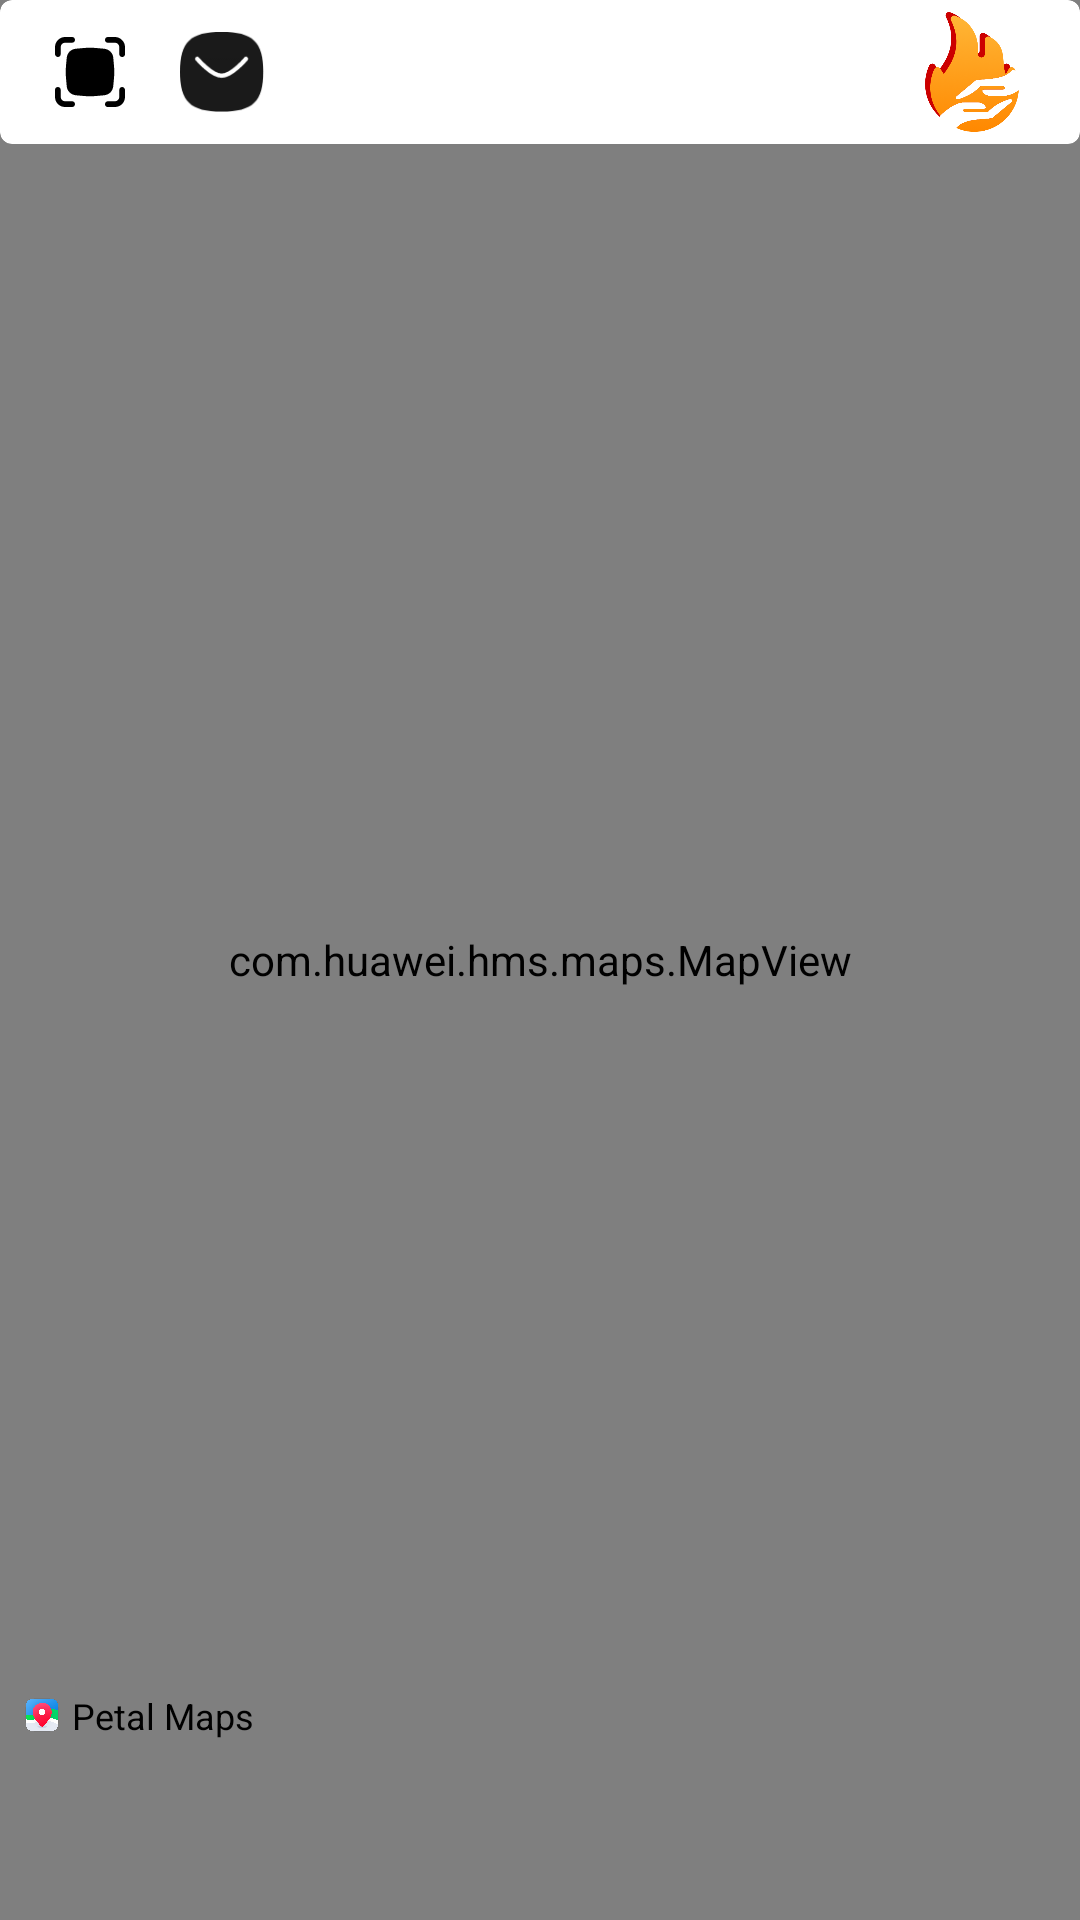

Where icons sit on this 1080x1920 app screen, as (x1, y1, x2, y2):
home messages: (180, 32, 264, 112)
